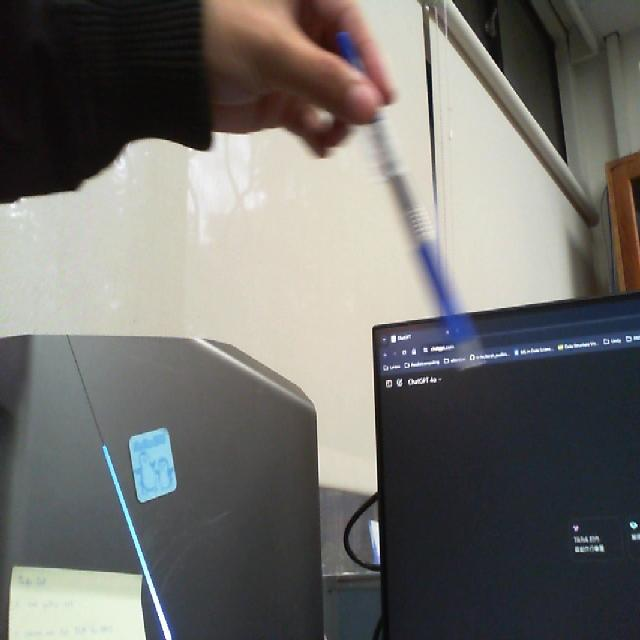Pen: (330, 24, 498, 386)
